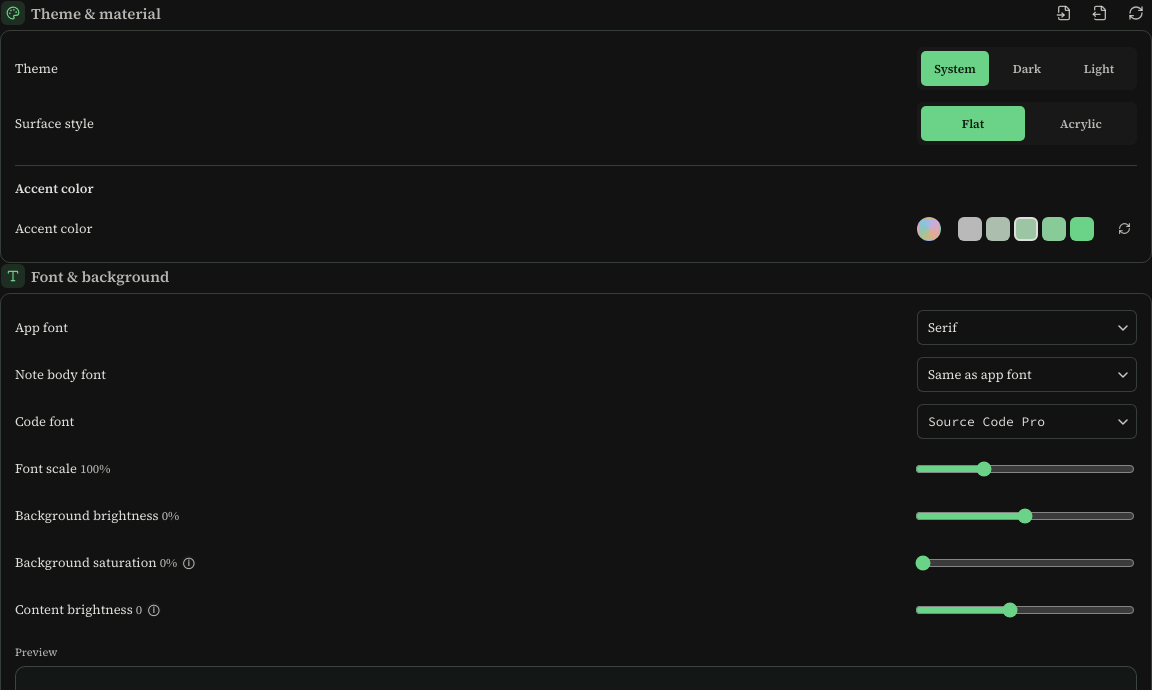
Test: AppearanceSection (W11 / W23-d) › 강조색 — hue 슬라이더 1칩 + 채도 5칩 + 초기화 › 무채 칩을 고르면 색이 회색이 되고 hue 칩이 죽는다
Expected: the button with test id "accent-hue-chip" is enabled, [917, 216, 941, 240]
Click the radio button with test id "accent-chip-0" at coordinates (970, 228), box [958, 216, 982, 240]
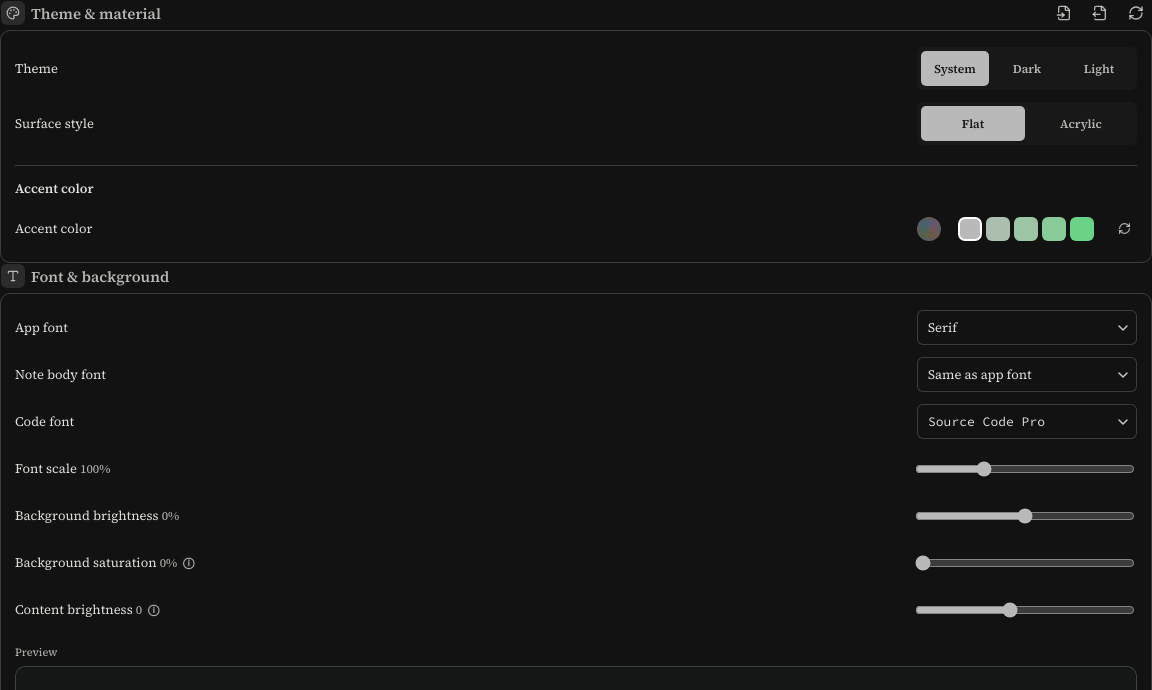
Expected: the button with test id "accent-hue-chip" is disabled, [917, 216, 941, 240]
